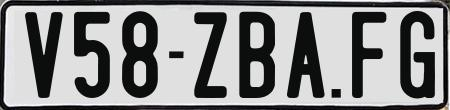5: (72, 11, 110, 99)
8: (122, 9, 159, 102)
A: (286, 9, 324, 100)
B: (239, 10, 281, 102)
F: (349, 10, 387, 97)
G: (398, 8, 432, 97)
V: (22, 12, 66, 104)
Z: (194, 9, 227, 100)
